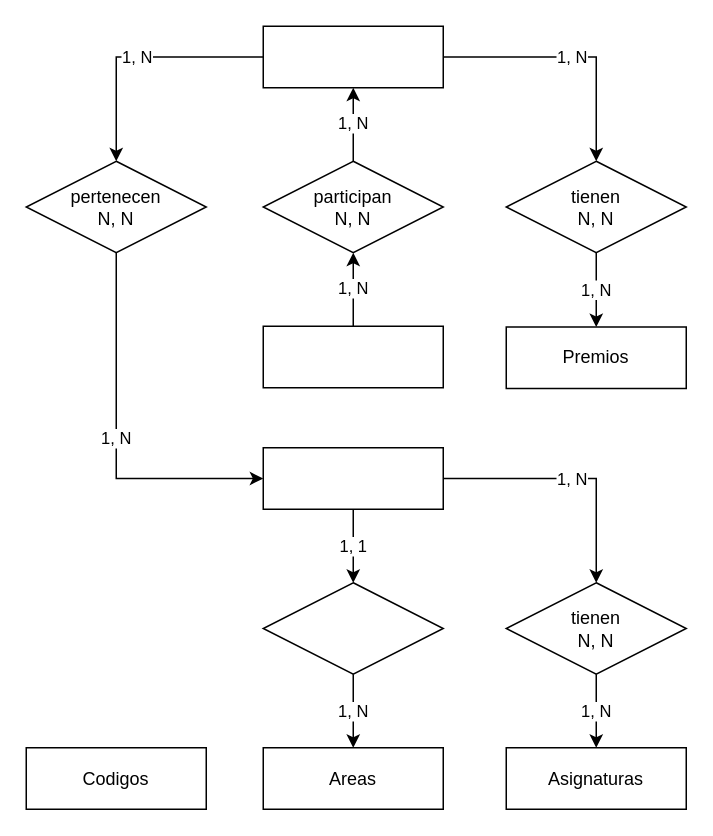
This 713x836 diagram has some shape labels left out. Each missing label, with the centre of its shape:
pertenecen 1, N: the point at 352,627
Proyectos/Trabajos: the point at 352,56
Titulaciones: the point at 352,477
Usuarios: the point at 352,356
